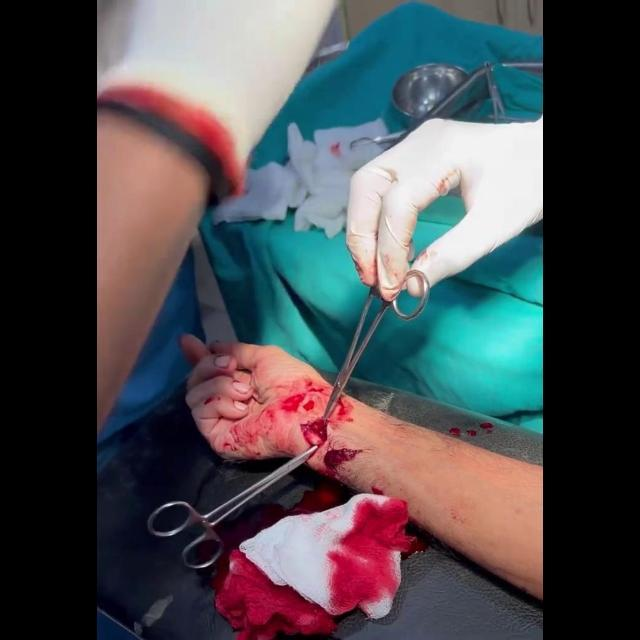blood: (214, 550, 338, 640), (328, 495, 411, 620), (229, 372, 333, 456), (446, 422, 496, 443), (327, 396, 354, 429), (324, 449, 362, 466), (207, 394, 219, 407)
